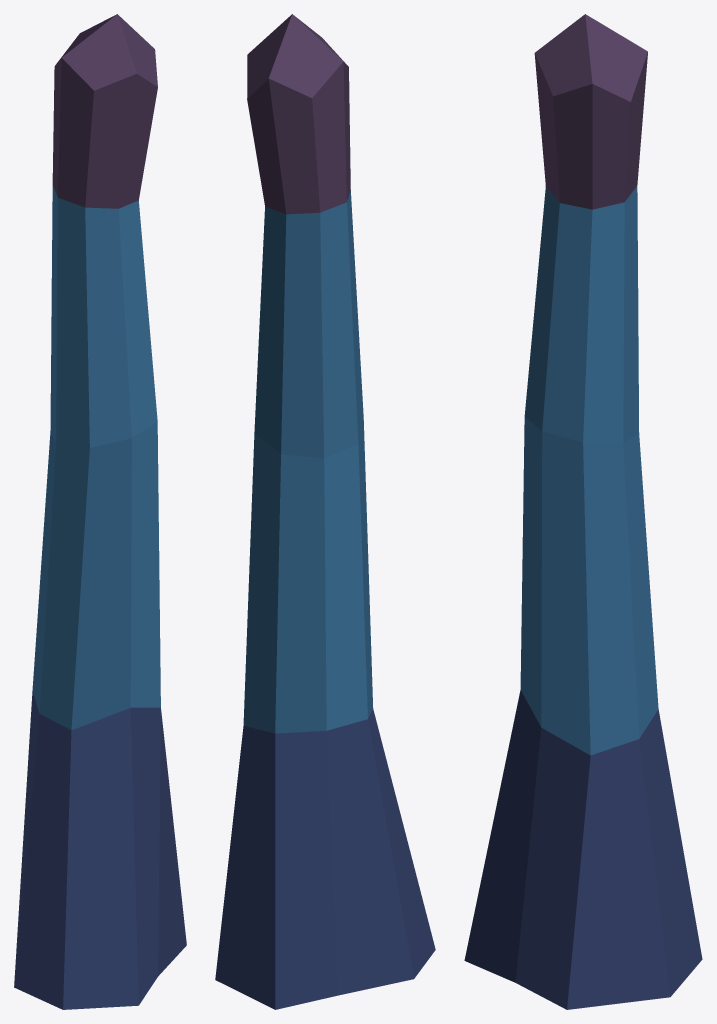
File: scifi_scifi-tree-orb-small.fbx
3 views of the same model, side by side, from view 1: azimuth 30°, elevation 25°; view 2: azimuth 150°, elevation 25°; view 3: azimuth 270°, elevation 25° (orthographic). The views are drawn at different scales.
Visible parts, largest first — view 1: scifi_scifi_tree_orb_small; view 2: scifi_scifi_tree_orb_small; view 3: scifi_scifi_tree_orb_small.
Part boxes in pixels (x1,y1,x2,y2): scifi_scifi_tree_orb_small: (14,14,186,1009); scifi_scifi_tree_orb_small: (215,14,435,1009); scifi_scifi_tree_orb_small: (464,14,702,1009).
Bounding box in the file's own units: 38.5 × 200 × 44.69.
